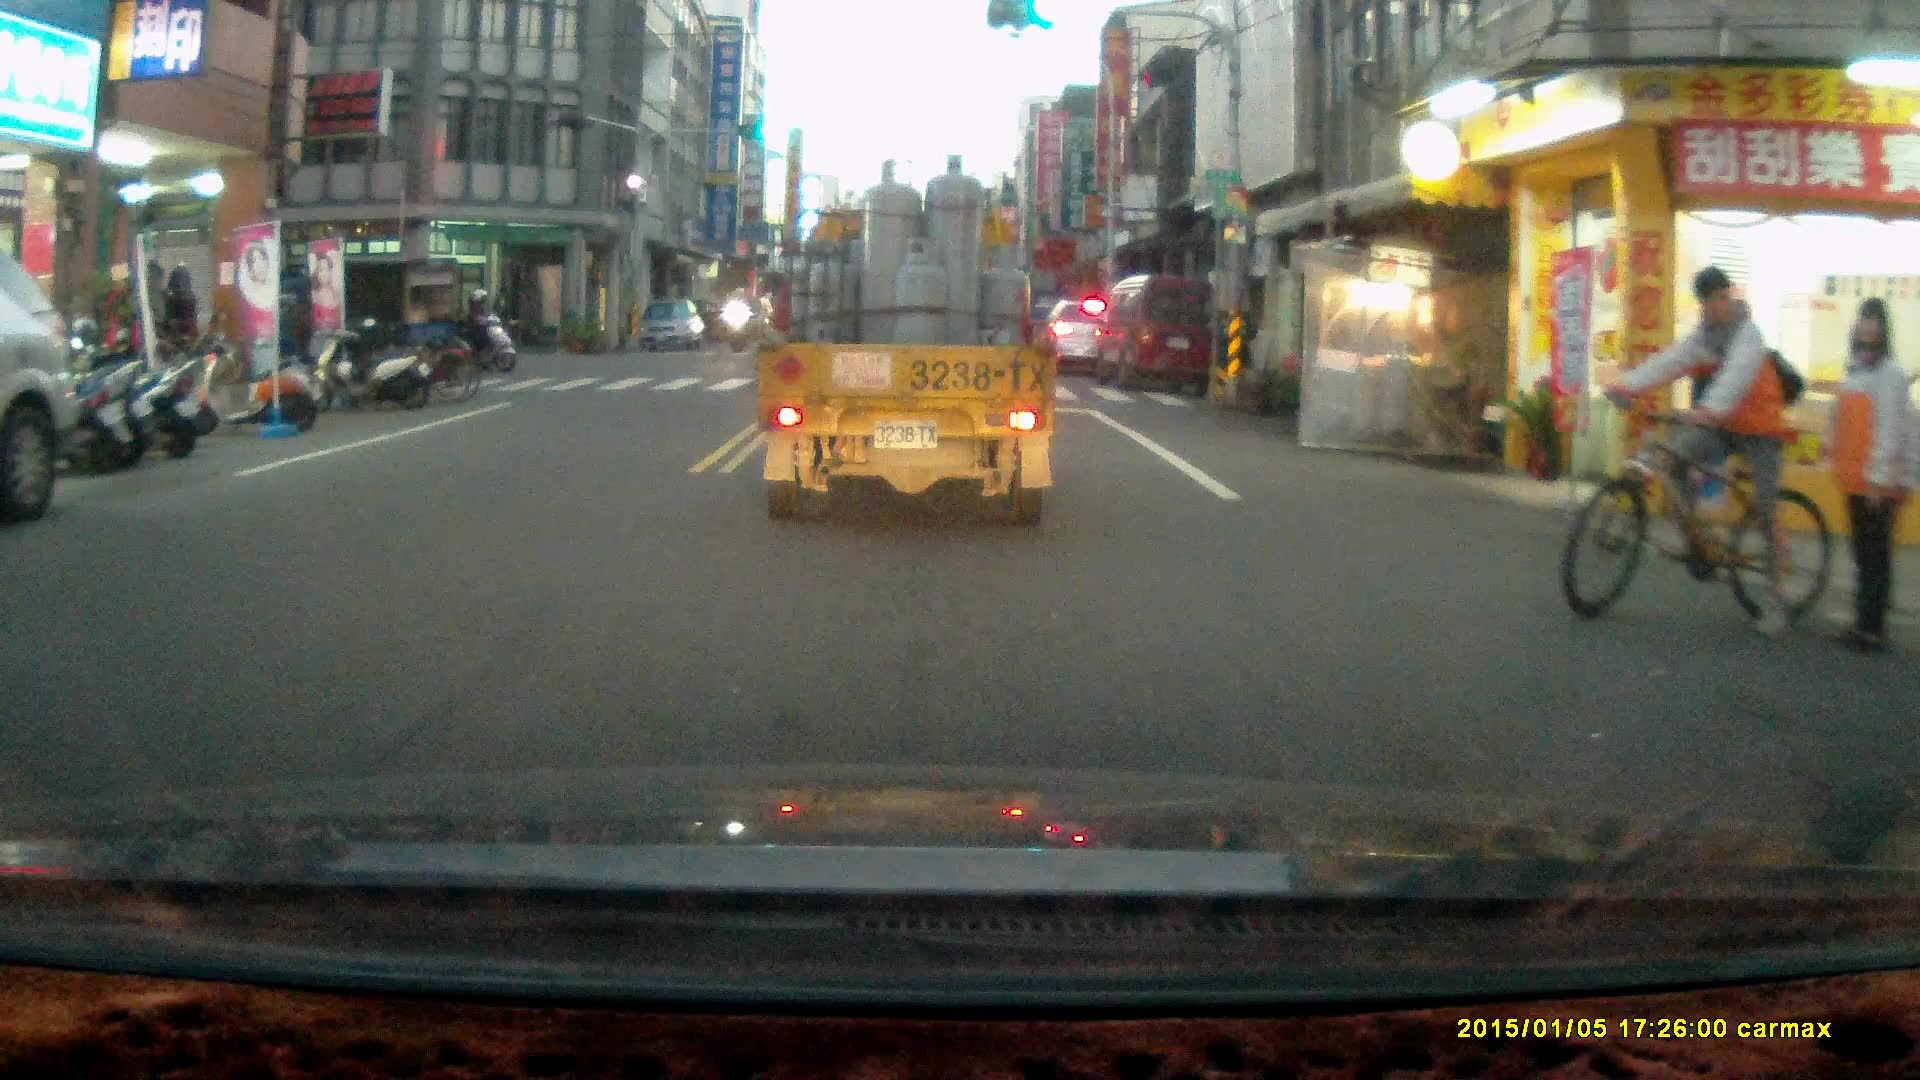pedestrian: (1823, 295, 1906, 658), (161, 265, 197, 376)
rider: (1564, 266, 1833, 643), (446, 283, 514, 373), (724, 282, 762, 352)
vehicle: (753, 160, 1047, 523), (253, 247, 470, 375), (1, 255, 80, 527), (1093, 274, 1220, 395), (1044, 297, 1118, 377), (638, 299, 706, 352)
